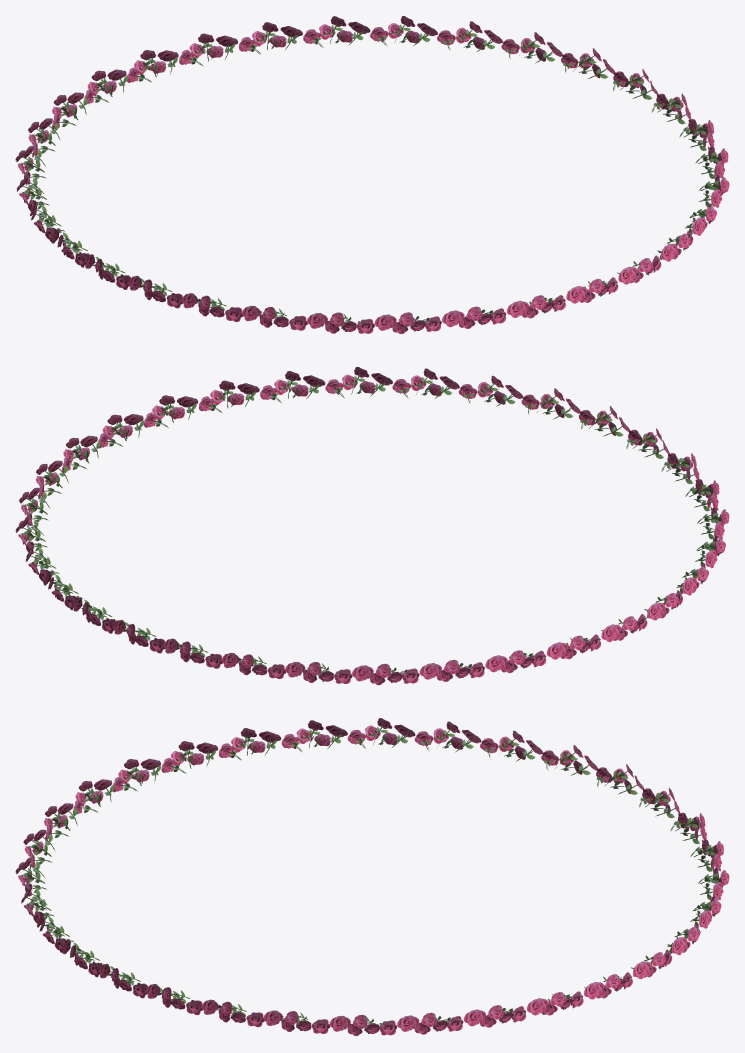
Rendered from Flower - Copy.glb.
3 views of the same model, one above another, from view 1: azimuth 30°, elevation 25°; view 2: azimuth 150°, elevation 25°; view 3: azimuth 270°, elevation 25° (orthographic).
Visible parts, largest first — view 1: Flowers; view 2: Flowers; view 3: Flowers.
Part boxes in pixels (<box>): Flowers: <box>15,16,729,333</box>; Flowers: <box>15,367,729,685</box>; Flowers: <box>15,718,729,1035</box>.
Bounding box in the file's own units: 4.03 × 0.1829 × 4.03.
1 material, 1 textured.
